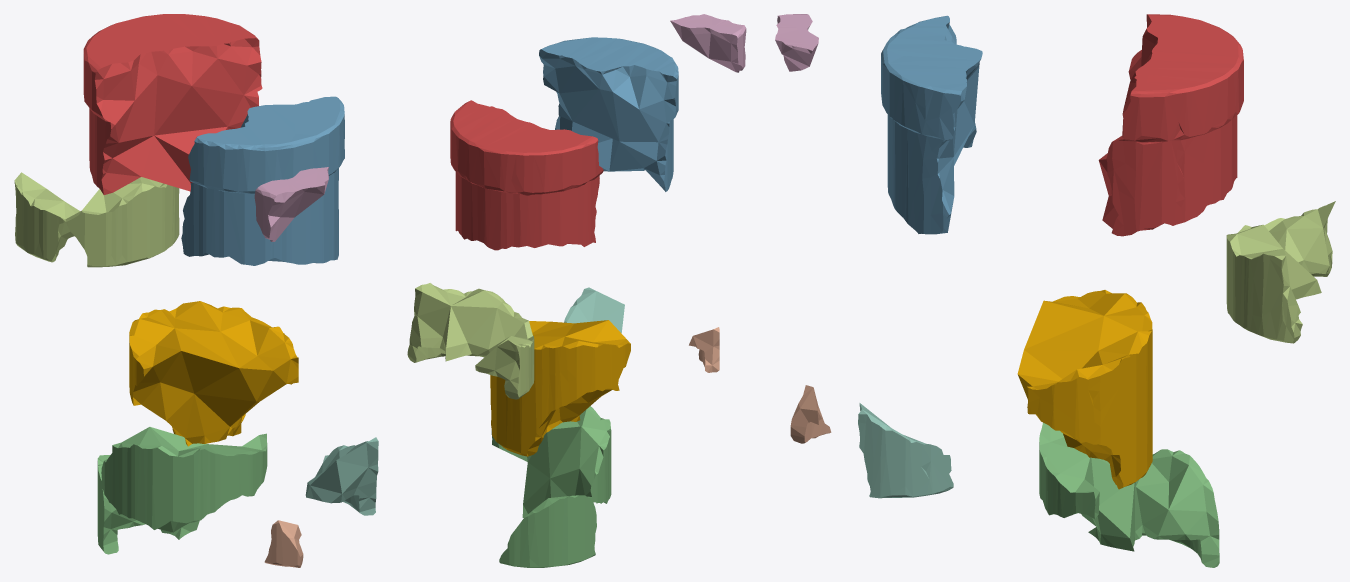
File: fractured_51_8pcs_transformed.glb
3 renders of one model, left to right at view 1: azimuth 30°, elevation 25°; view 2: azimuth 150°, elevation 25°; view 3: azimuth 270°, elevation 25°, orthographic. The views are drawn at different scales.
Parts seen in each view (by area): view 1: piece_1.obj, piece_2.obj, piece_0.obj, piece_3.obj, piece_5.obj, piece_4.obj, piece_6.obj, piece_7.obj; view 2: piece_1.obj, piece_2.obj, piece_3.obj, piece_0.obj, piece_5.obj, piece_6.obj, piece_4.obj, piece_7.obj; view 3: piece_1.obj, piece_0.obj, piece_2.obj, piece_3.obj, piece_5.obj, piece_4.obj, piece_6.obj, piece_7.obj.
Boxes of the visible parts, x1=… form: piece_1.obj: x1=83, y1=14, x2=262, y2=194; piece_2.obj: x1=181, y1=96, x2=344, y2=265; piece_0.obj: x1=129, y1=301, x2=298, y2=446; piece_3.obj: x1=97, y1=427, x2=267, y2=554; piece_5.obj: x1=14, y1=172, x2=179, y2=267; piece_4.obj: x1=305, y1=437, x2=378, y2=515; piece_6.obj: x1=254, y1=167, x2=328, y2=241; piece_7.obj: x1=264, y1=520, x2=303, y2=567; piece_1.obj: x1=450, y1=100, x2=603, y2=250; piece_2.obj: x1=539, y1=37, x2=678, y2=191; piece_3.obj: x1=491, y1=406, x2=611, y2=567; piece_0.obj: x1=490, y1=320, x2=630, y2=456; piece_5.obj: x1=407, y1=283, x2=534, y2=399; piece_6.obj: x1=670, y1=14, x2=746, y2=72; piece_4.obj: x1=564, y1=287, x2=624, y2=333; piece_7.obj: x1=689, y1=327, x2=719, y2=372; piece_1.obj: x1=1098, y1=14, x2=1243, y2=236; piece_0.obj: x1=1017, y1=290, x2=1152, y2=489; piece_2.obj: x1=881, y1=15, x2=982, y2=234; piece_3.obj: x1=1039, y1=422, x2=1219, y2=567; piece_5.obj: x1=1226, y1=201, x2=1335, y2=343; piece_4.obj: x1=858, y1=403, x2=953, y2=498; piece_6.obj: x1=775, y1=14, x2=818, y2=71; piece_7.obj: x1=790, y1=385, x2=831, y2=443.
Bounding box in the file's own units: 0.6842 × 2.01 × 1.99.
